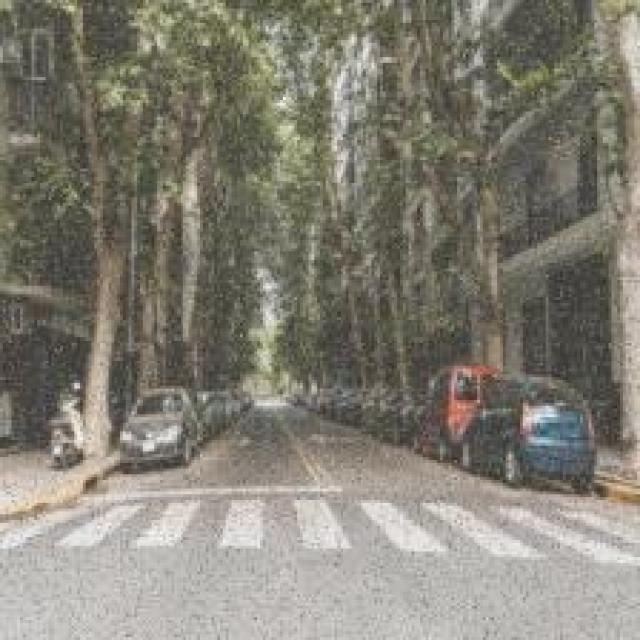walk-crossing: (12, 488, 637, 550)
